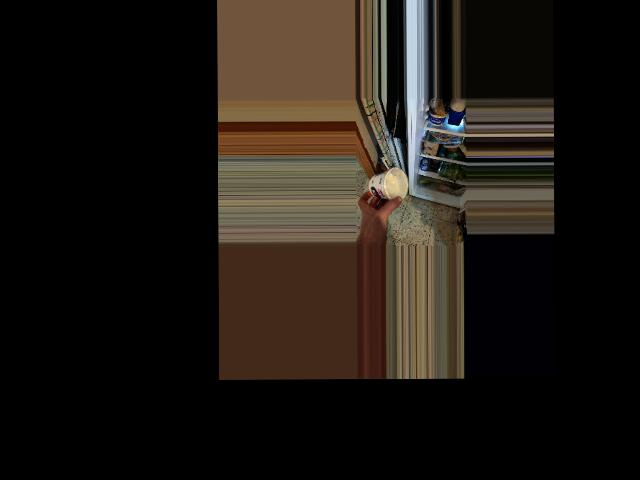cotage: (370, 169, 411, 201)
